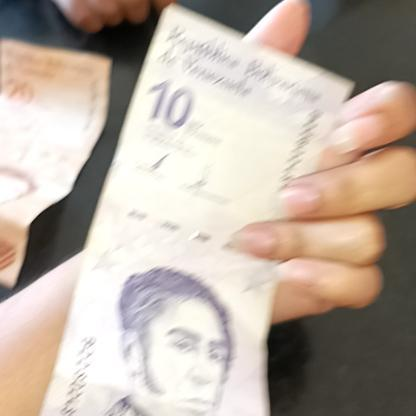ten-front-vef: (29, 26, 361, 416)
twenty-front-vef: (0, 35, 114, 291)
